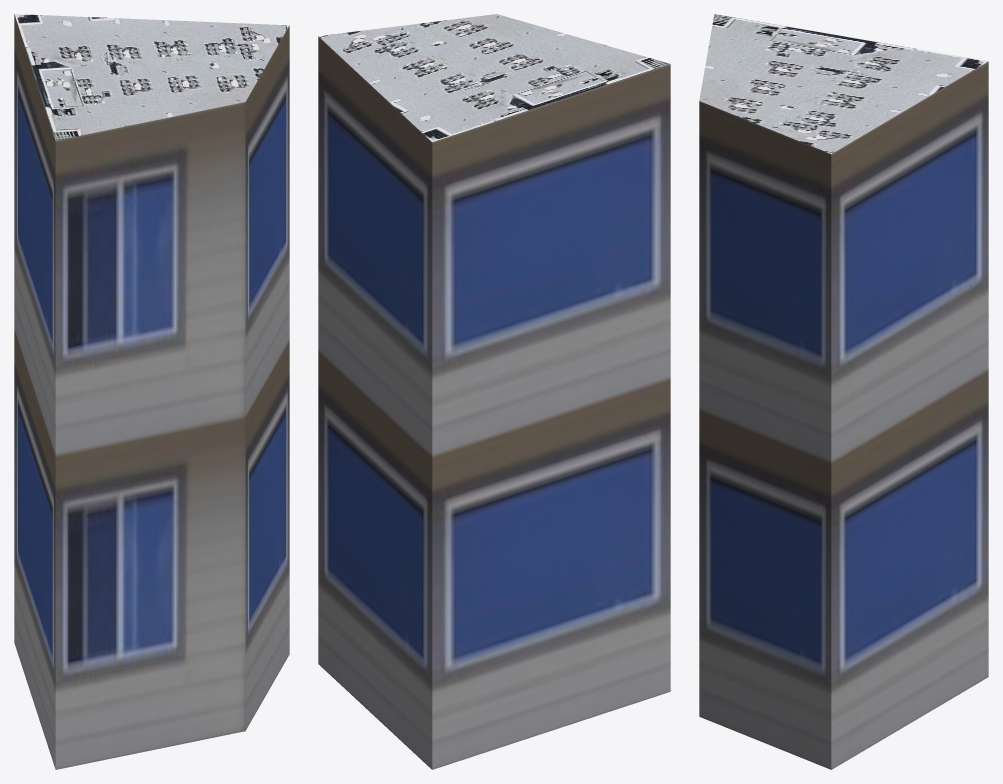
Rendered from ResTex__4588.fbx.
3 views of the same model, side by side, from view 1: azimuth 30°, elevation 25°; view 2: azimuth 150°, elevation 25°; view 3: azimuth 270°, elevation 25° (orthographic). The views are drawn at different scales.
Visible parts, largest first — view 1: CityEngineMaterial_23_m, CityEngineMaterial_2_m; view 2: CityEngineMaterial_23_m, CityEngineMaterial_2_m; view 3: CityEngineMaterial_23_m, CityEngineMaterial_2_m.
Part boxes in pixels (<box>): CityEngineMaterial_23_m: <box>14,14,289,769</box>; CityEngineMaterial_2_m: <box>14,14,289,140</box>; CityEngineMaterial_23_m: <box>318,36,670,769</box>; CityEngineMaterial_2_m: <box>318,14,669,141</box>; CityEngineMaterial_23_m: <box>699,61,988,769</box>; CityEngineMaterial_2_m: <box>699,14,988,153</box>.
Bounding box in the file's own units: 2.93 × 6 × 2.56.
Materials: 2 (2 with a texture image).
